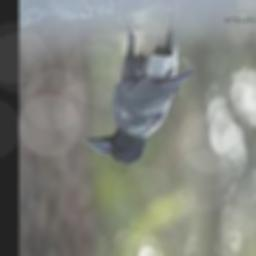Crow: (84, 9, 194, 164)
